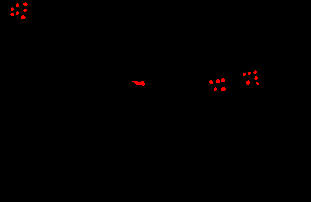Target: (132, 81, 145, 86), (23, 2, 28, 6), (21, 15, 26, 19), (246, 80, 250, 85), (221, 87, 226, 91), (253, 70, 257, 74), (254, 76, 258, 80), (221, 78, 225, 82), (216, 79, 220, 83), (209, 80, 213, 84), (16, 3, 19, 7), (11, 7, 14, 11), (23, 9, 27, 12), (16, 11, 19, 15), (10, 13, 14, 16), (214, 87, 217, 91), (248, 72, 251, 75), (243, 73, 246, 76), (256, 82, 259, 85)
